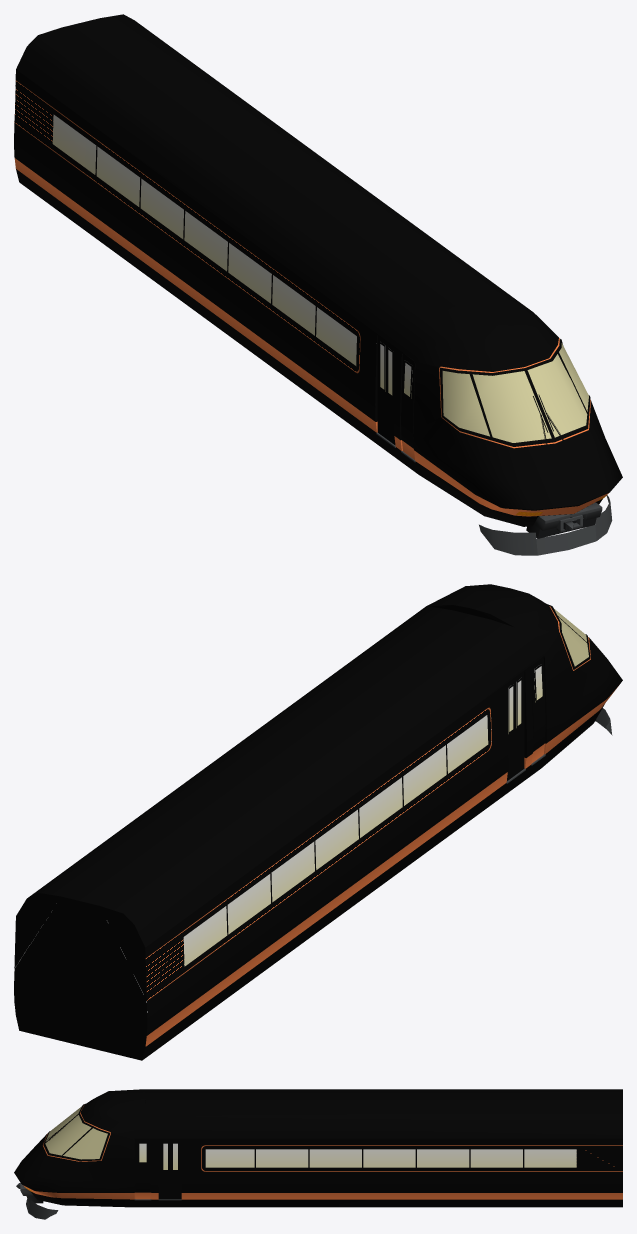
Rendered from ULR_1.glb.
3 views of the same model, one above another, from view 1: azimuth 30°, elevation 25°; view 2: azimuth 150°, elevation 25°; view 3: azimuth 270°, elevation 25° (orthographic). The views are drawn at different scales.
Visible parts, largest first — view 1: obj21; view 2: obj21; view 3: obj21.
Part boxes in pixels (<box>): obj21: <box>14,14,622,555</box>; obj21: <box>14,584,622,1060</box>; obj21: <box>14,1089,622,1219</box>.
Size of the model in its own units: 6.49 by 8.24 by 42.
Materials: 11 (10 with a texture image).
